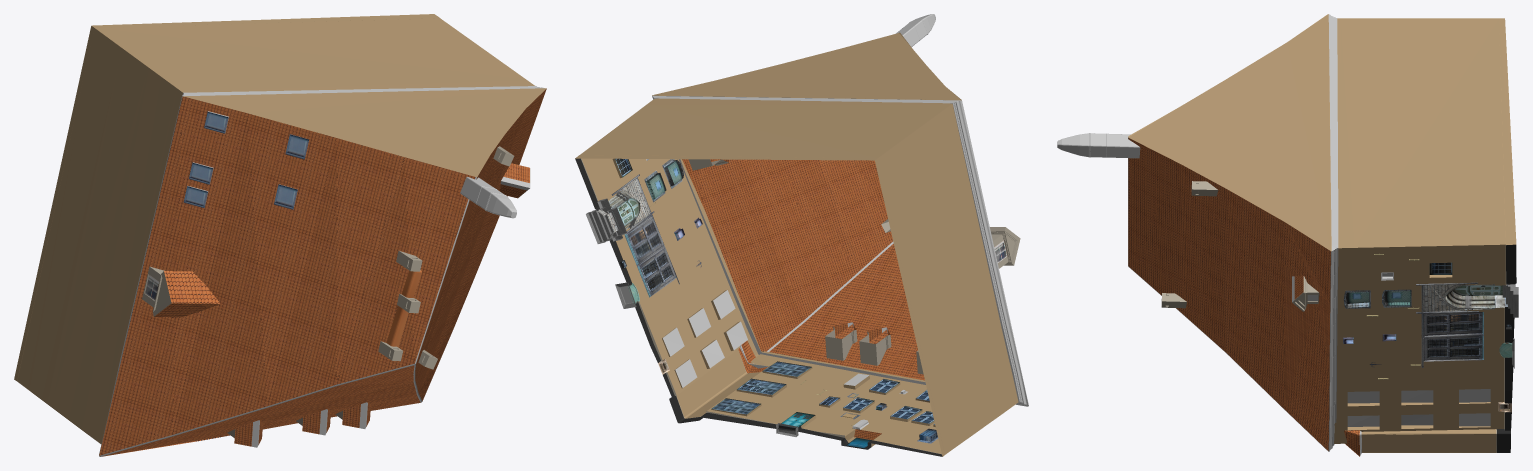
File: Vene_17.obj
3 renders of one model, left to right at view 1: azimuth 30°, elevation 25°; view 2: azimuth 150°, elevation 25°; view 3: azimuth 270°, elevation 25°, orthographic. The views are drawn at different scales.
Parts seen in each view (by area): view 1: polySurface20; view 2: polySurface20; view 3: polySurface20.
Part boxes in pixels (left/top/right/bottom): polySurface20: left=14, top=14, right=546, bottom=456; polySurface20: left=575, top=14, right=1028, bottom=456; polySurface20: left=1057, top=14, right=1518, bottom=456.
Bounding box in the file's own units: 29.15 × 23.12 × 28.63.
